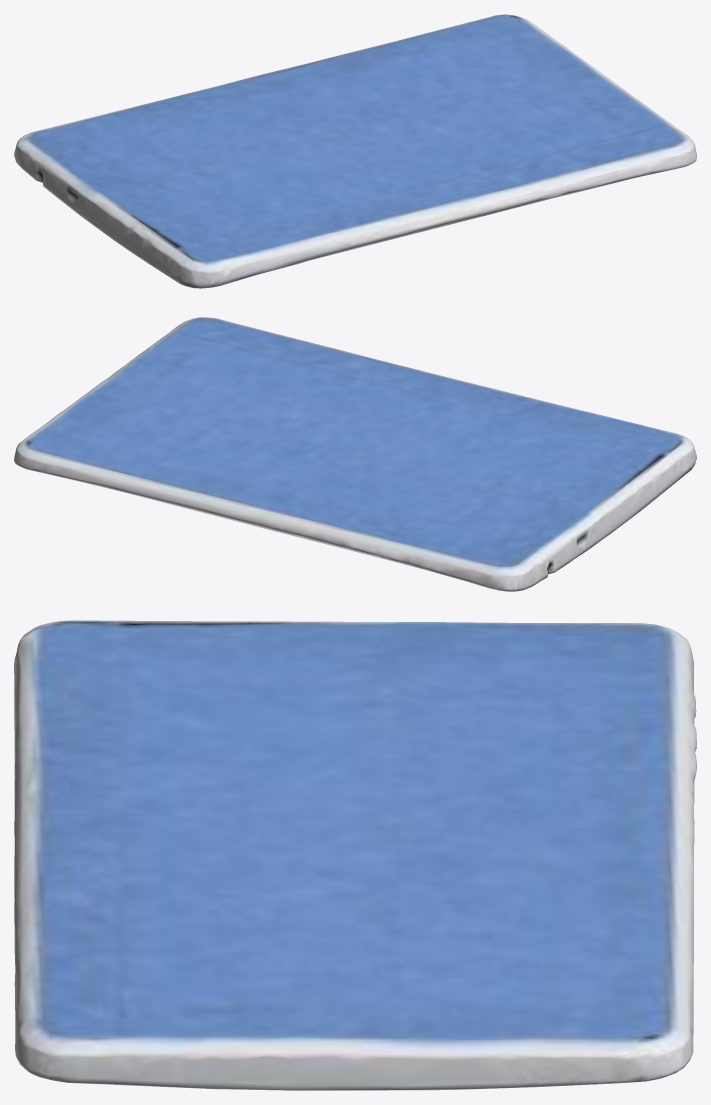
File: gso_hp_1800_tablet_8gb_7.glb
3 renders of one model, top to bottom at view 1: azimuth 30°, elevation 25°; view 2: azimuth 150°, elevation 25°; view 3: azimuth 270°, elevation 25°, orthographic. The views are drawn at different scales.
Parts seen in each view (by area): view 1: z-up-to-y-up; view 2: z-up-to-y-up; view 3: z-up-to-y-up.
Part boxes in pixels (box(x1,y1,x2,y2)): z-up-to-y-up: box(14, 14, 696, 288); z-up-to-y-up: box(14, 317, 696, 591); z-up-to-y-up: box(14, 620, 696, 1090).
Bounding box in the file's own units: 0.1934 × 0.0132 × 0.1258.
Materials: 1 (1 with a texture image).
